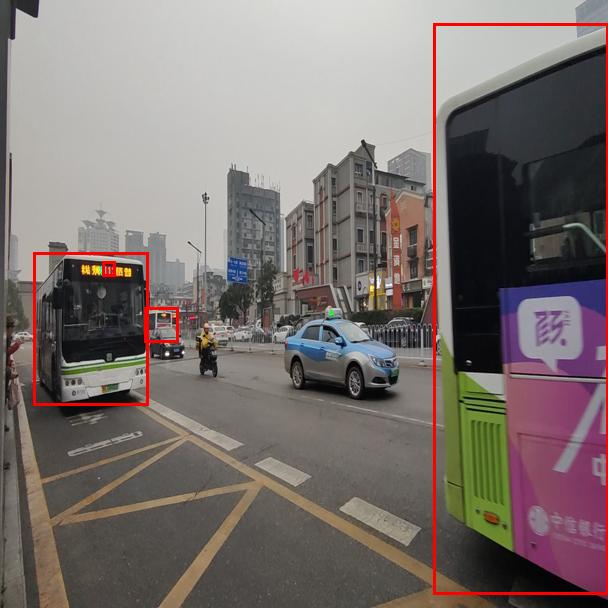bus: (433, 23, 608, 594), (33, 252, 148, 405), (144, 307, 178, 342)
screen: (102, 261, 115, 276)
